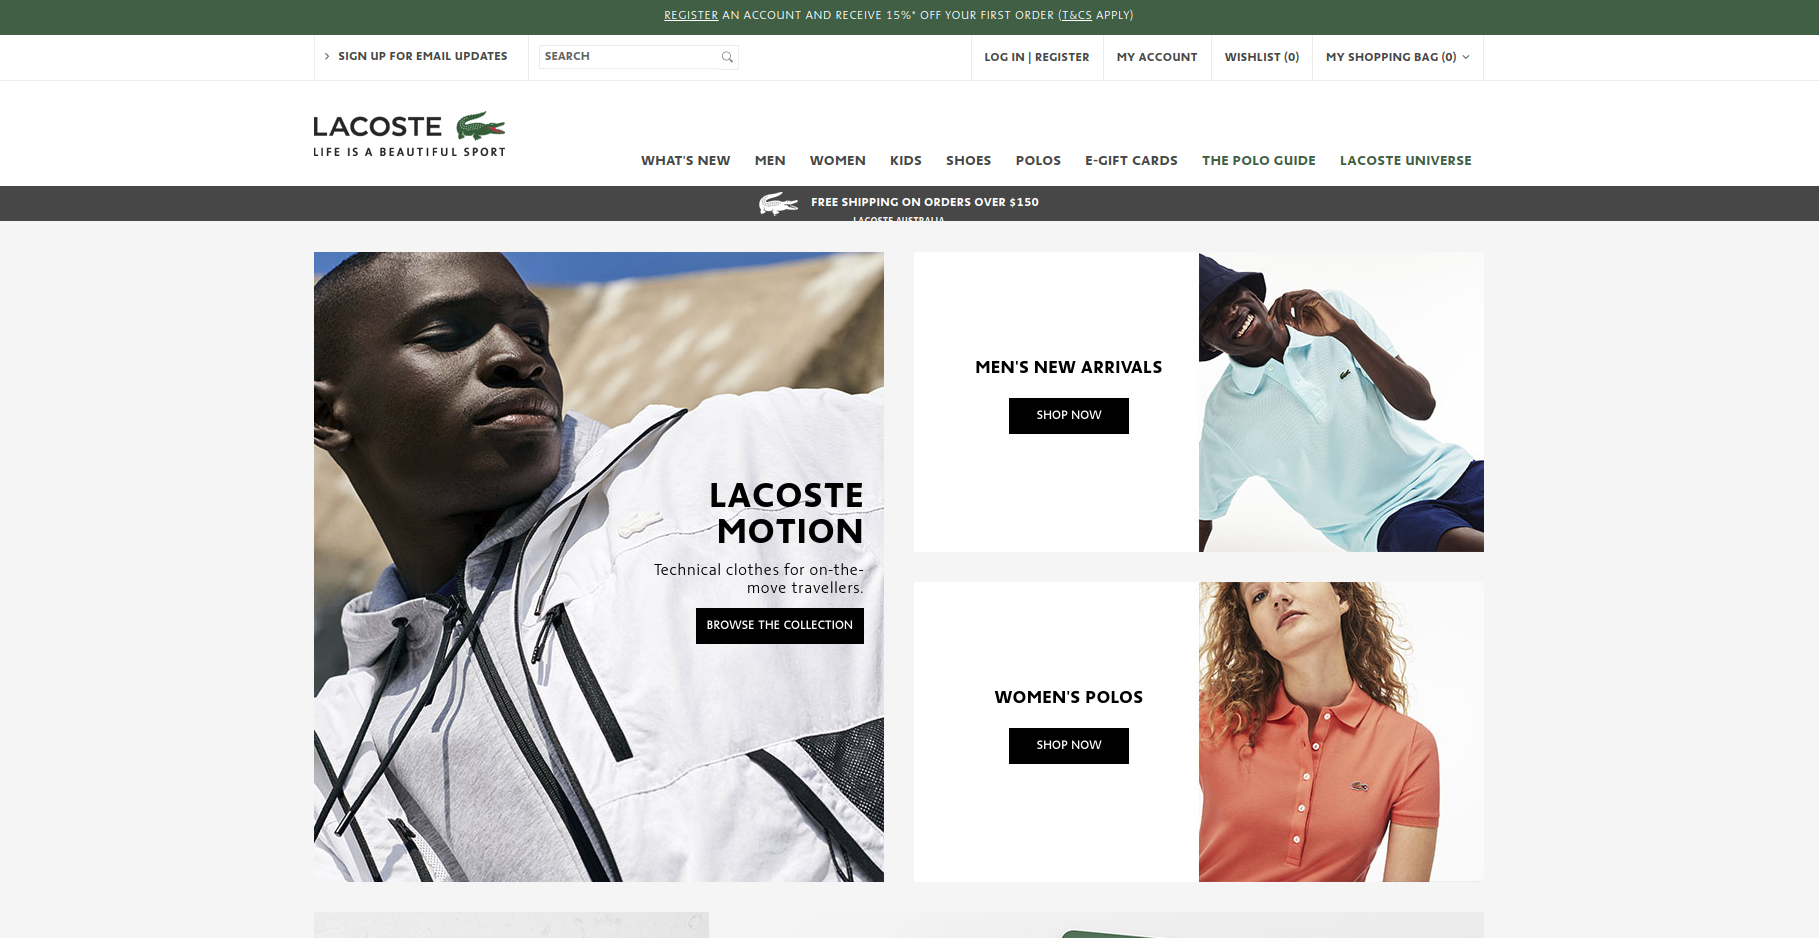Lacoste: (453, 108, 508, 150), (747, 190, 805, 223)
